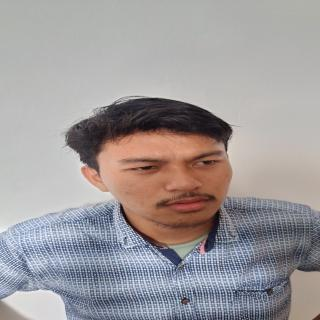Marah: (92, 119, 247, 235)
